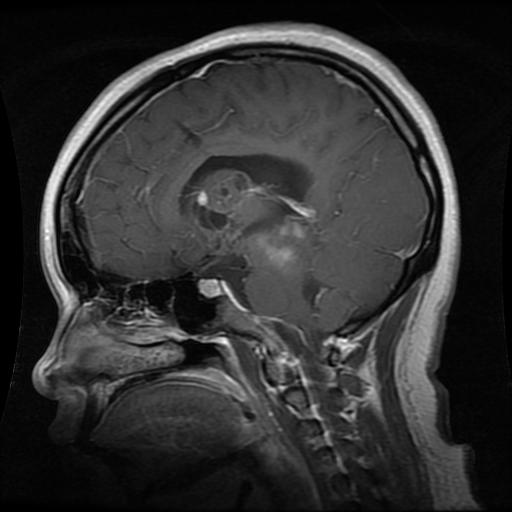Gliomia_tumour: (200, 169, 316, 264)
